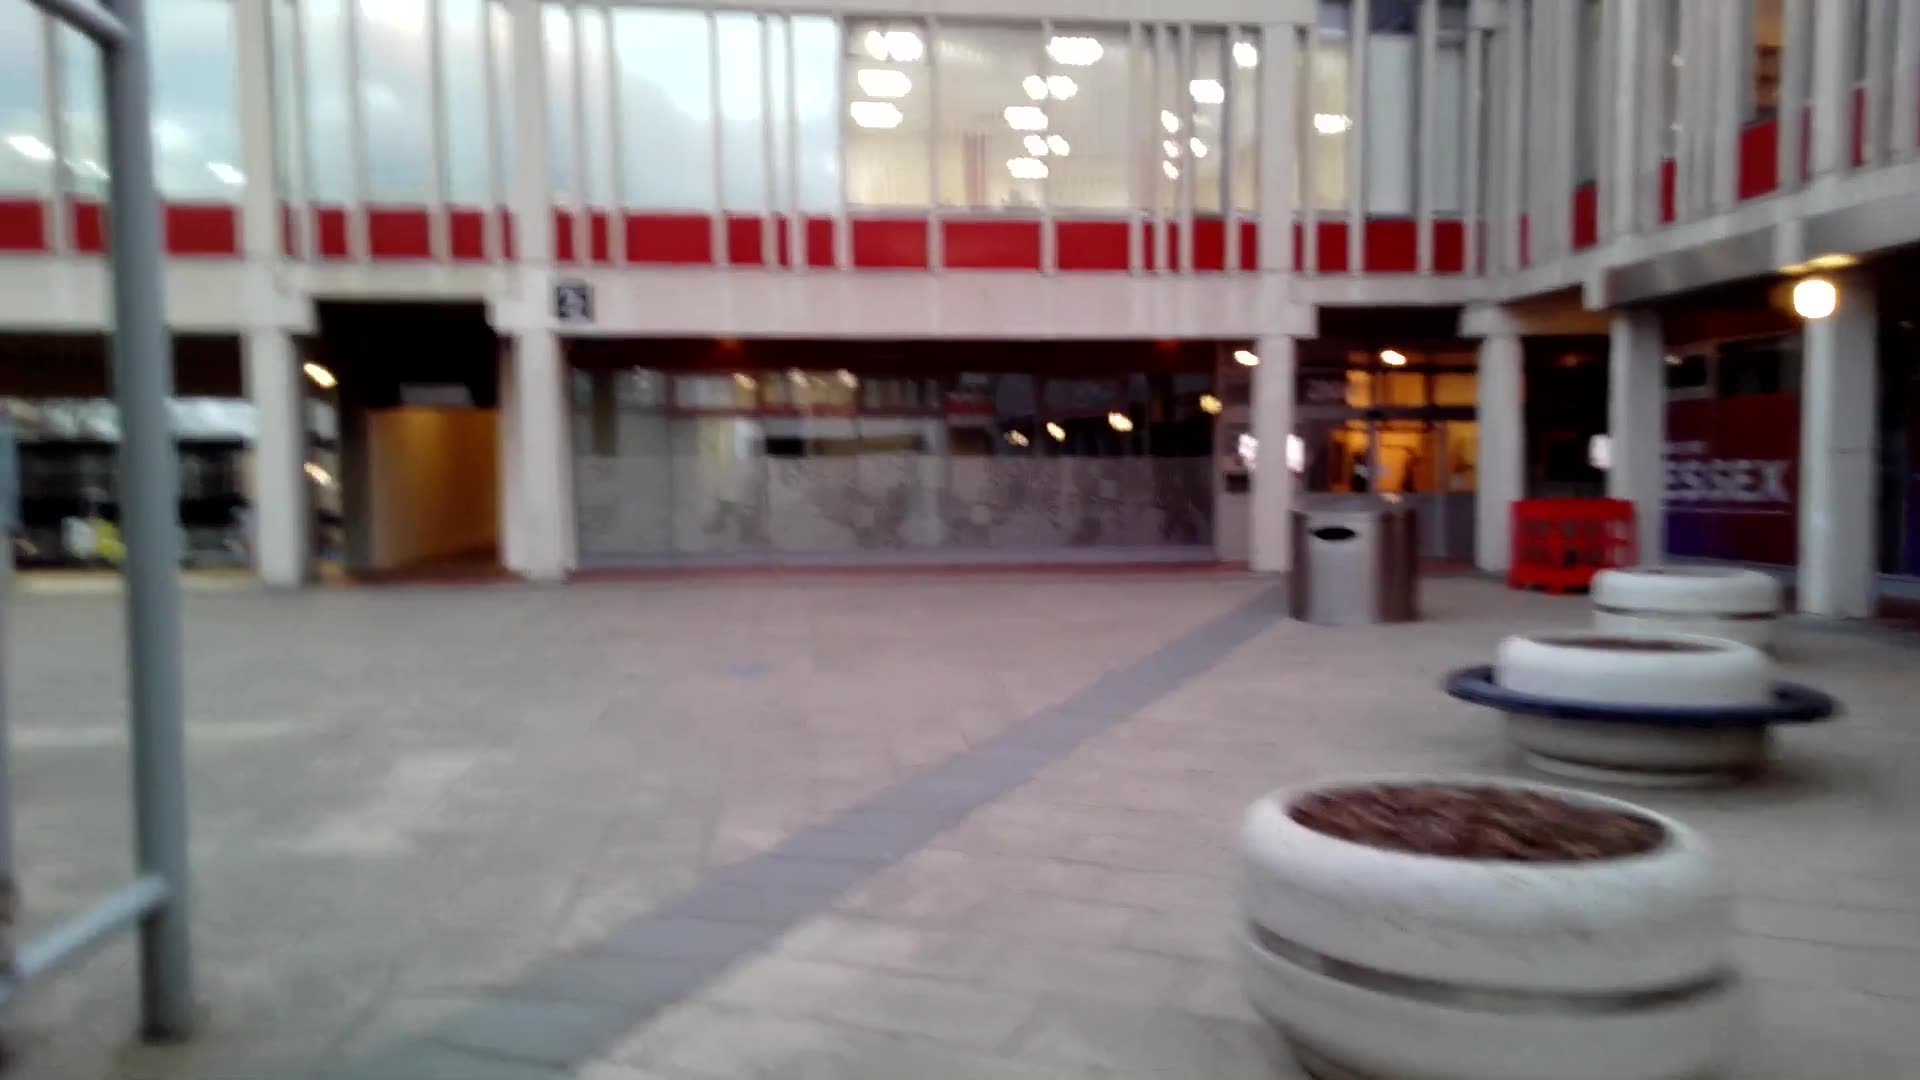Bin: (1286, 493, 1433, 644)
